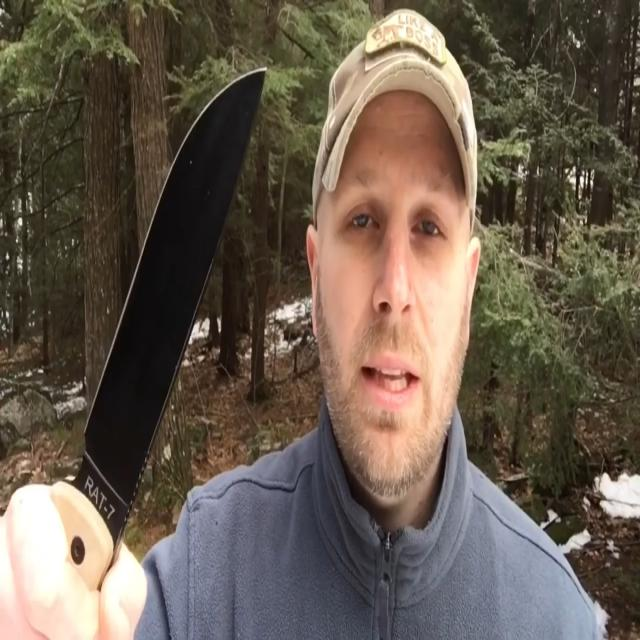knife: (52, 63, 272, 585)
